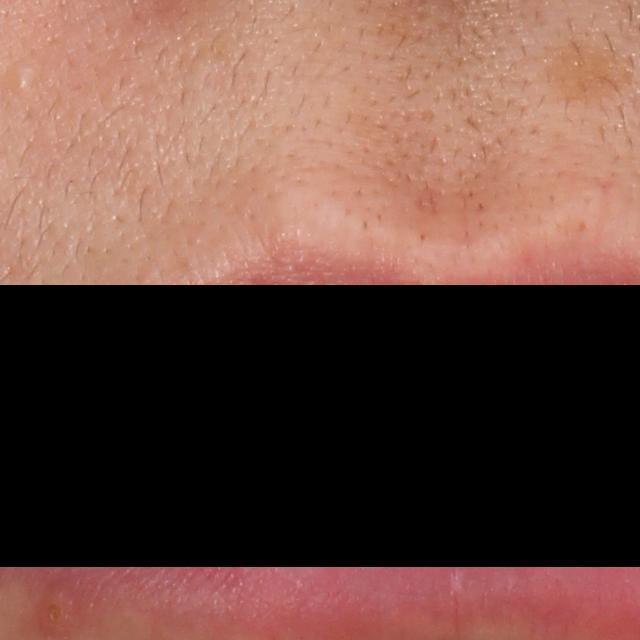comedo: (6, 60, 35, 97)
